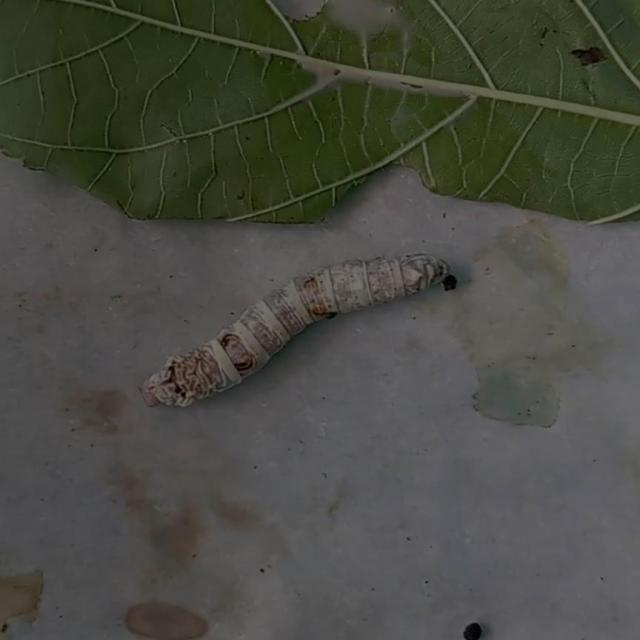Grasserie: (104, 224, 494, 419)
